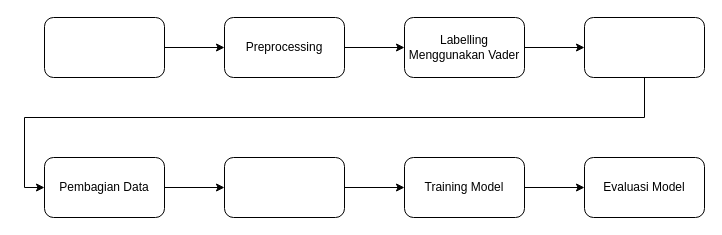
Some shapes in this 722 by 235 pixel diagram are drawn without their labels. The shapes that lost their labels are listed below. From the top down, each one's box as (x1, y1, x2, y2) in pixels, then its label:
(44, 16, 164, 78): Pengumpulan Data
(584, 16, 704, 78): Tokenizing
(224, 156, 344, 218): Modelling
